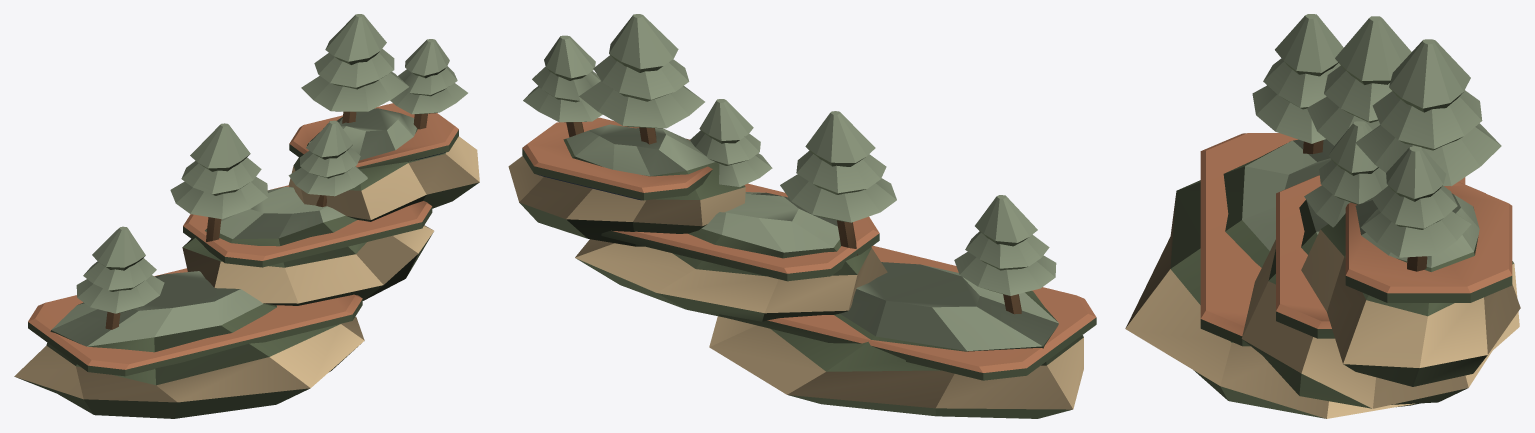
The model's file is heliostat-orchard.glb.
3 views of the same model, side by side, from view 1: azimuth 30°, elevation 25°; view 2: azimuth 150°, elevation 25°; view 3: azimuth 270°, elevation 25° (orthographic). The views are drawn at different scales.
Visible parts, largest first — view 1: heliostat-orchard; view 2: heliostat-orchard; view 3: heliostat-orchard.
Part boxes in pixels (x1,y1,x2,y2): heliostat-orchard: (14, 14, 479, 418); heliostat-orchard: (508, 14, 1096, 418); heliostat-orchard: (1125, 14, 1520, 418).
Bounding box in the file's own units: 15.56 × 8.89 × 7.42.
